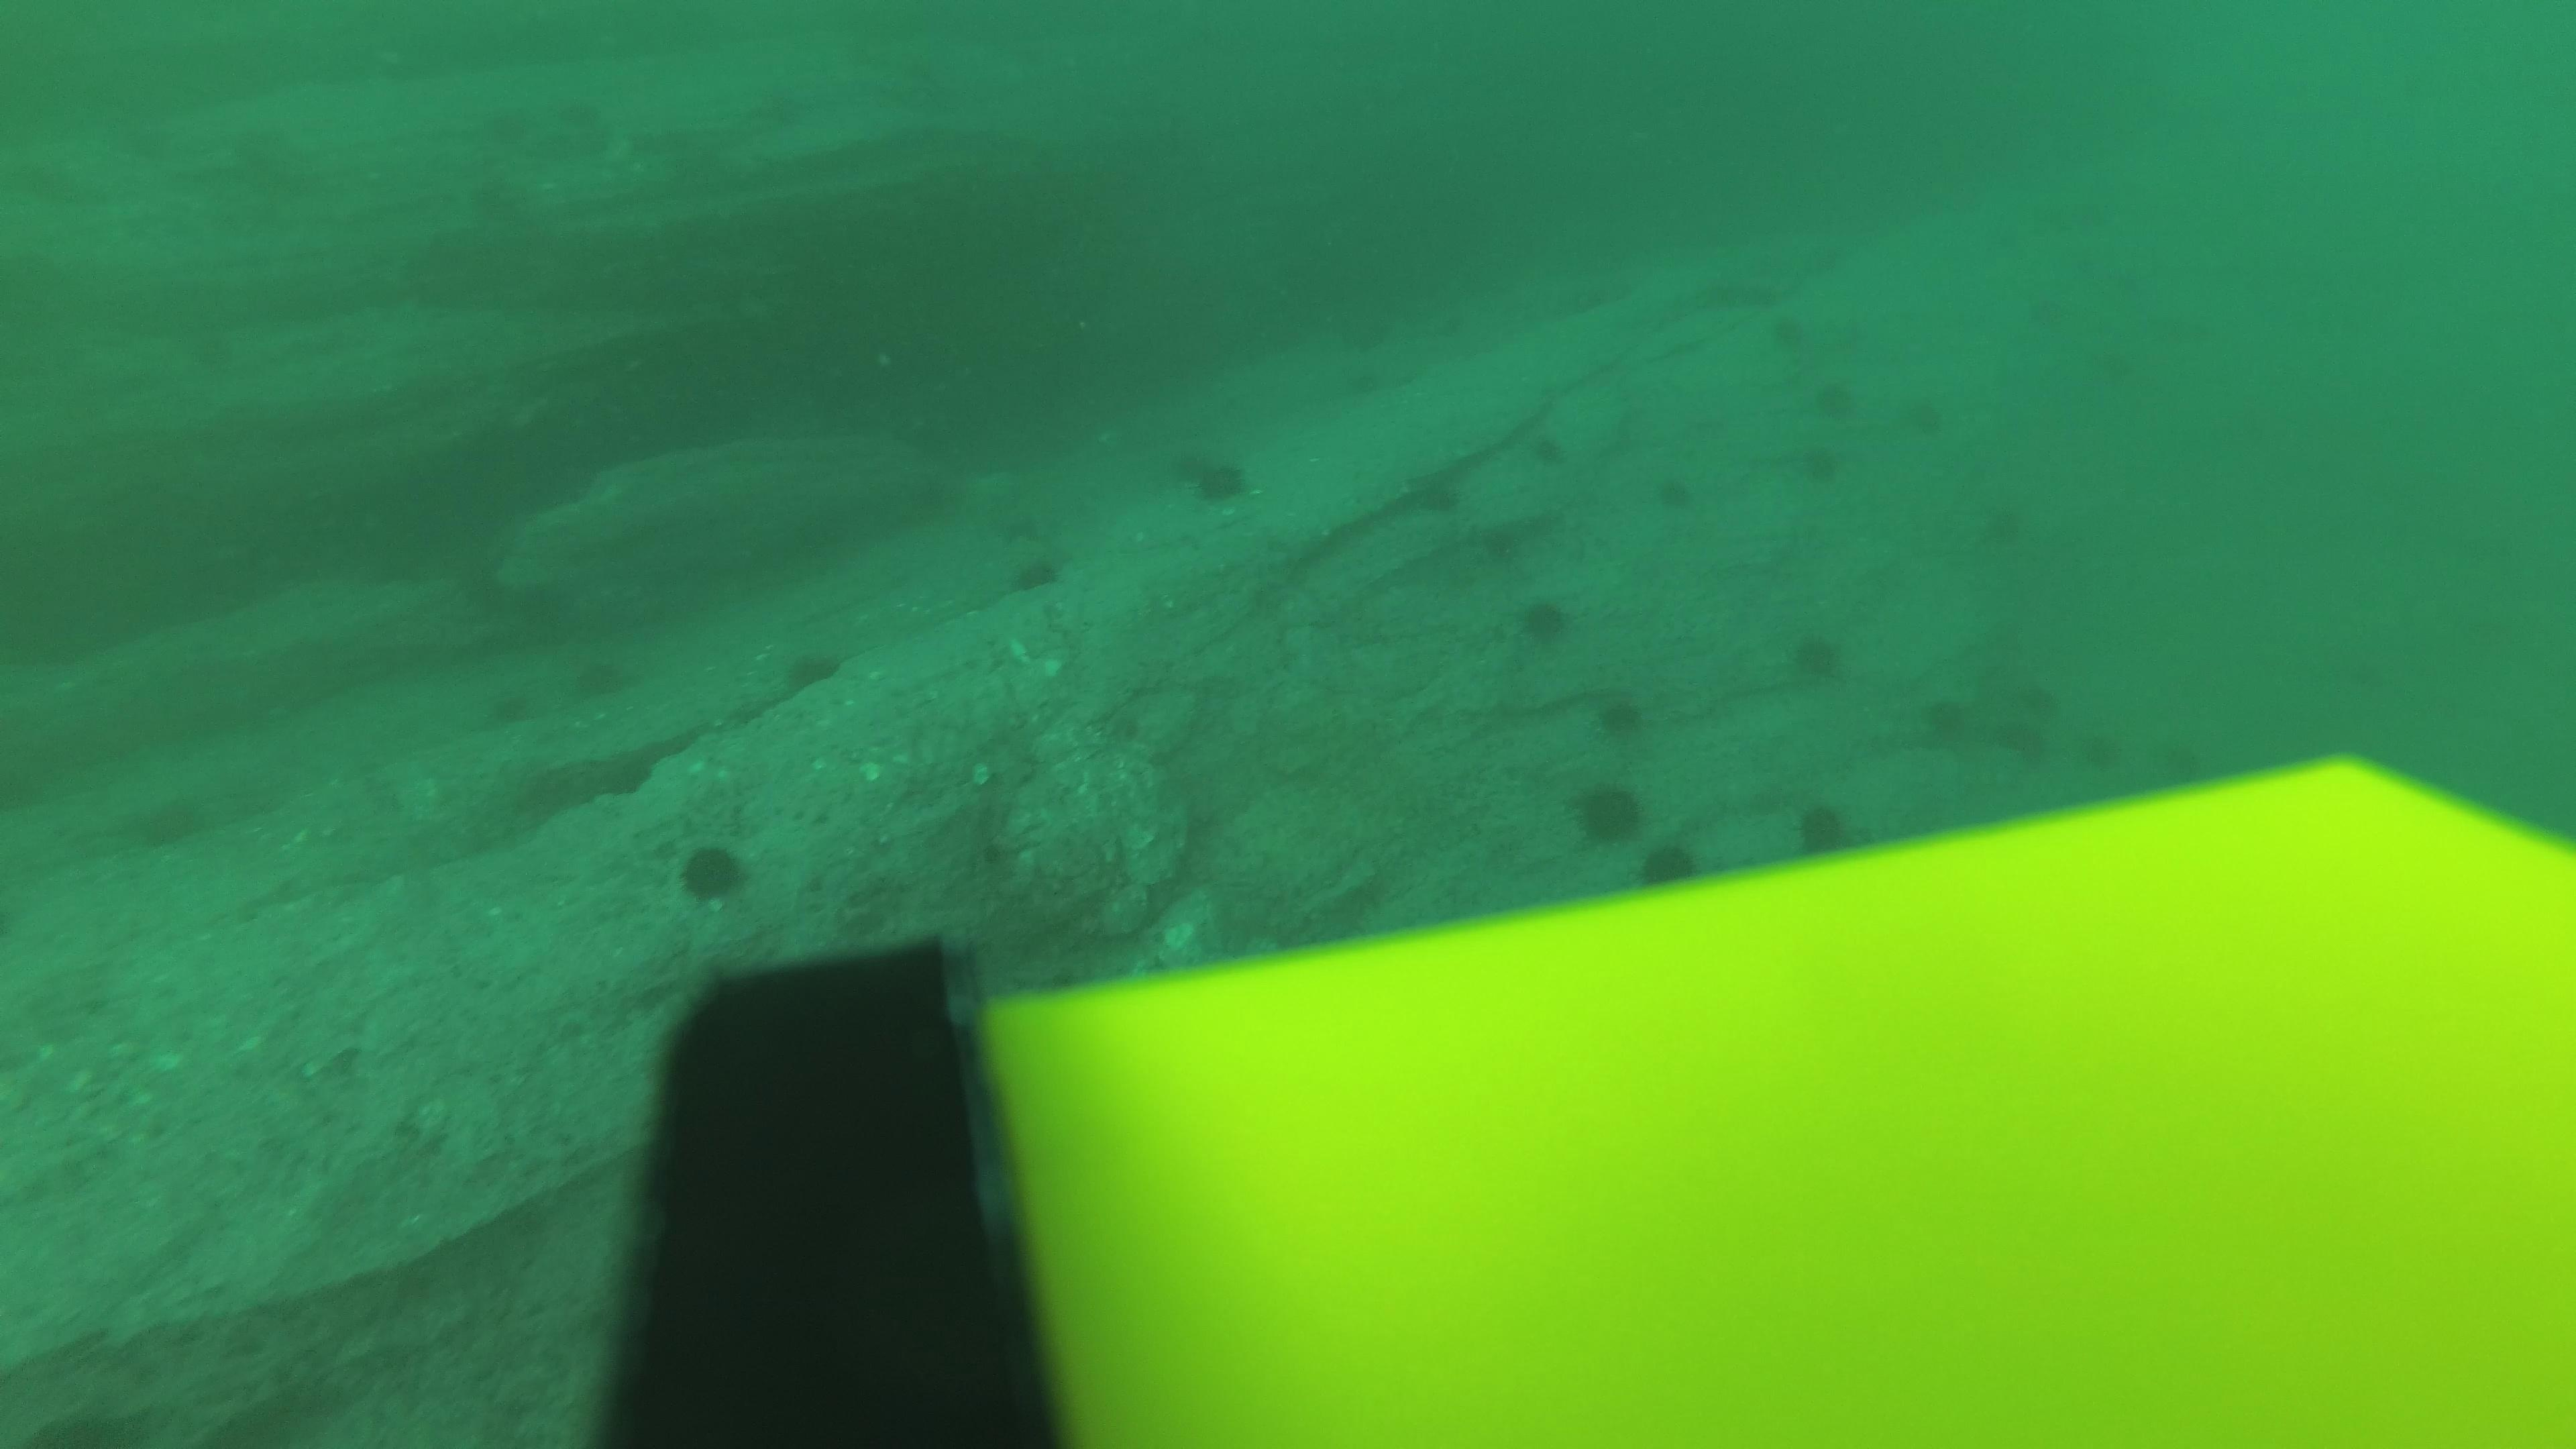echinus: (120, 786, 216, 855), (671, 833, 755, 908), (1568, 775, 1649, 849), (1175, 441, 1254, 510), (1787, 794, 1863, 862), (564, 648, 639, 708), (1633, 833, 1706, 893), (1399, 458, 1472, 518), (1476, 502, 1546, 563), (1511, 591, 1575, 653), (1513, 410, 1576, 472), (2010, 283, 2074, 345), (1785, 625, 1849, 685), (1918, 681, 1982, 741), (1999, 715, 2063, 775), (2015, 686, 2079, 747), (2077, 727, 2141, 787), (1805, 372, 1868, 432), (1805, 435, 1868, 495), (1886, 387, 1950, 448), (1759, 299, 1822, 359), (1645, 471, 1709, 531), (1971, 207, 2035, 267), (1962, 506, 2026, 566), (2144, 727, 2208, 787), (1704, 264, 1767, 324), (780, 640, 847, 695), (1592, 686, 1649, 743), (1008, 548, 1067, 596)
